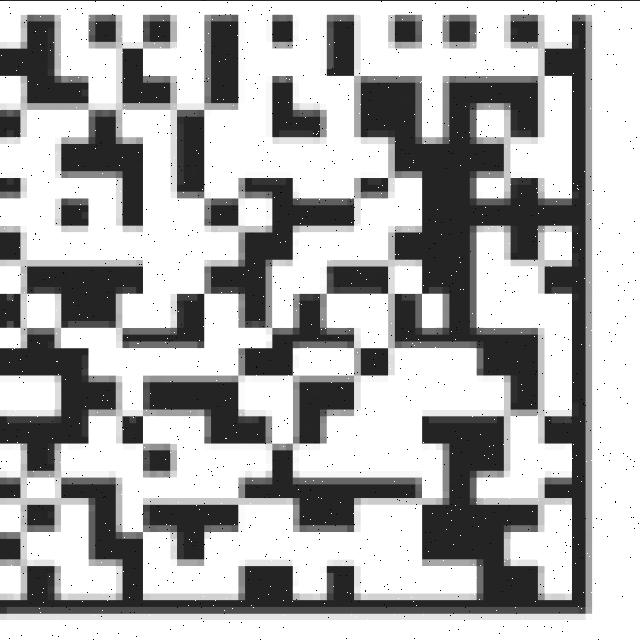datamatrix: (0, 0, 606, 627)
